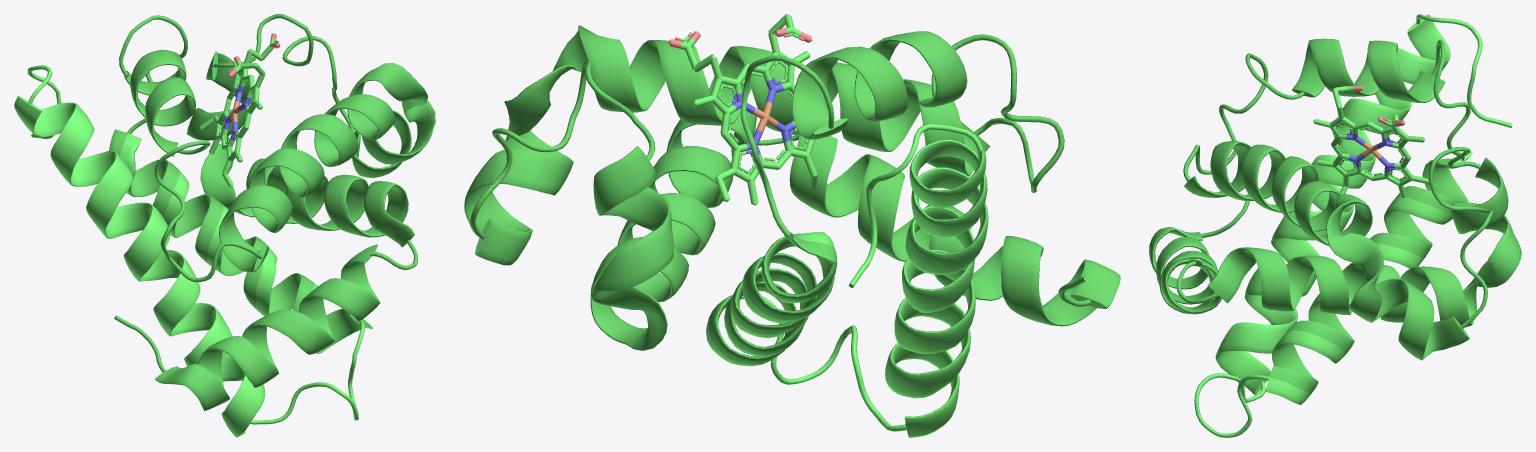
File: 1mbn.gltf
The picture shows the model from 3 angles, left to right: view 1: azimuth 30°, elevation 25°; view 2: azimuth 150°, elevation 25°; view 3: azimuth 270°, elevation 25°; orthographic projection. The views are drawn at different scales.
Visible parts, largest first — view 1: node-geom130, node-geom131; view 2: node-geom130, node-geom131; view 3: node-geom130, node-geom131.
Part boxes in pixels (x1,y1,x2,y2): node-geom130: [109, 14, 435, 411]; node-geom131: [14, 65, 372, 437]; node-geom130: [464, 25, 1120, 364]; node-geom131: [706, 123, 988, 437]; node-geom130: [1149, 38, 1521, 393]; node-geom131: [1194, 14, 1512, 437].
Bounding box in the file's own units: 39.83 × 34.54 × 33.06.
